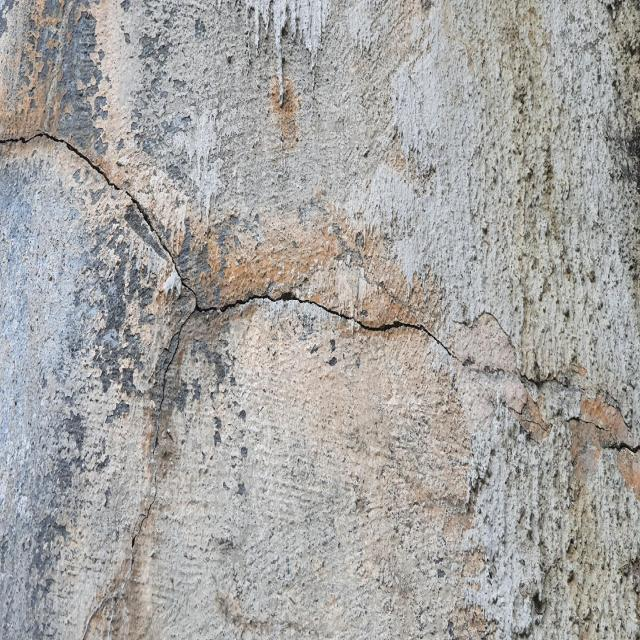SurfaceCrack: (2, 253, 640, 460)
